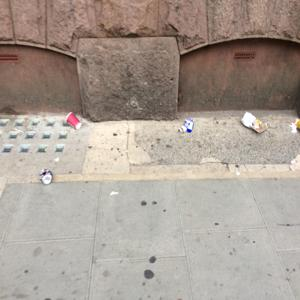cardboard: (239, 108, 270, 137), (63, 112, 85, 132)
metal: (30, 161, 59, 188)
plastic bottle: (178, 117, 196, 138)
